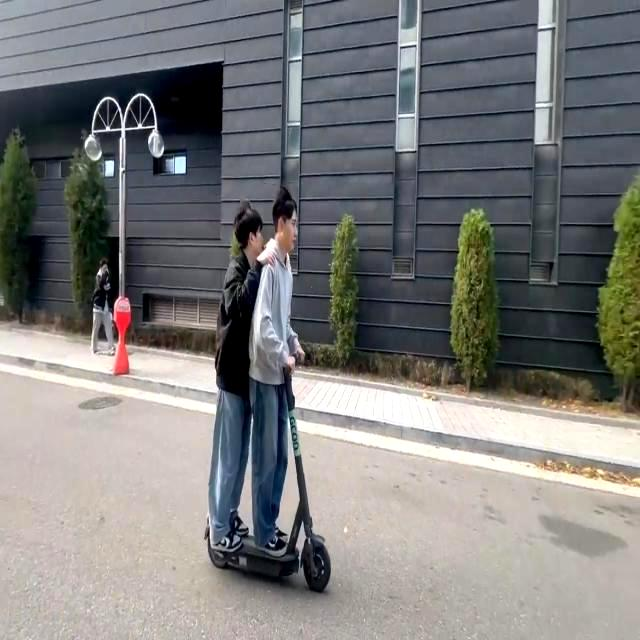bare_head: (261, 190, 302, 259), (227, 205, 270, 257)
human: (191, 204, 263, 551), (239, 190, 301, 549)
kickboard: (191, 505, 338, 600)
